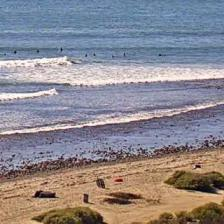surfer: (158, 54, 166, 57), (0, 53, 7, 56), (13, 50, 17, 54), (112, 55, 117, 58), (36, 50, 39, 53), (60, 47, 63, 50), (93, 53, 96, 56), (85, 54, 87, 57), (123, 53, 125, 56)
